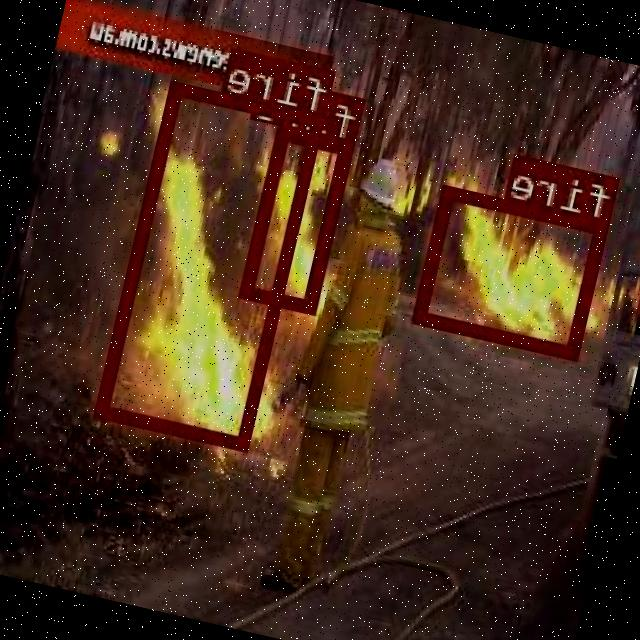fire: (98, 81, 326, 450), (416, 185, 612, 358), (243, 126, 356, 312)
